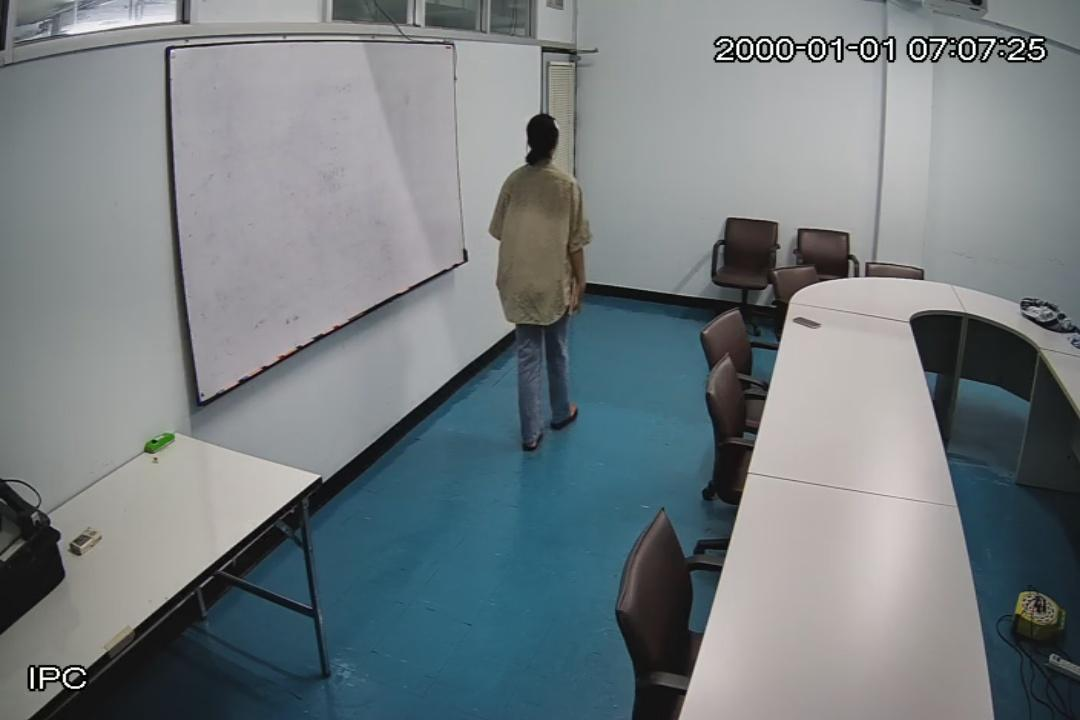normal: (490, 104, 602, 468)
